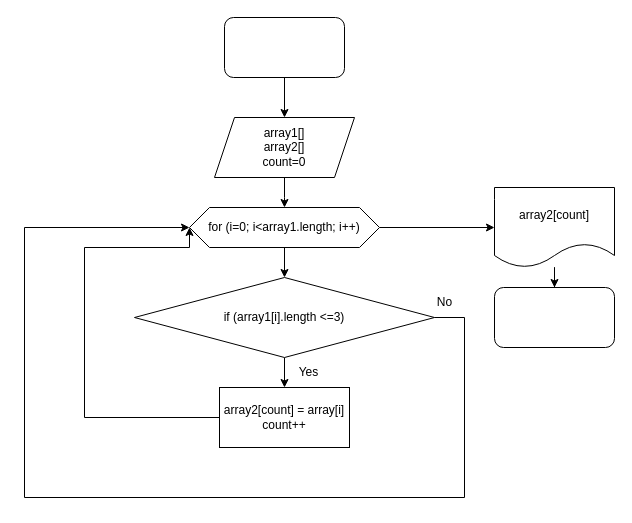
This 632x523 diagram has some shape labels left out. The centre of each missing label's shape, as x and y in pixels:
"end" belongs at (554,317).
"start" belongs at (284,47).
